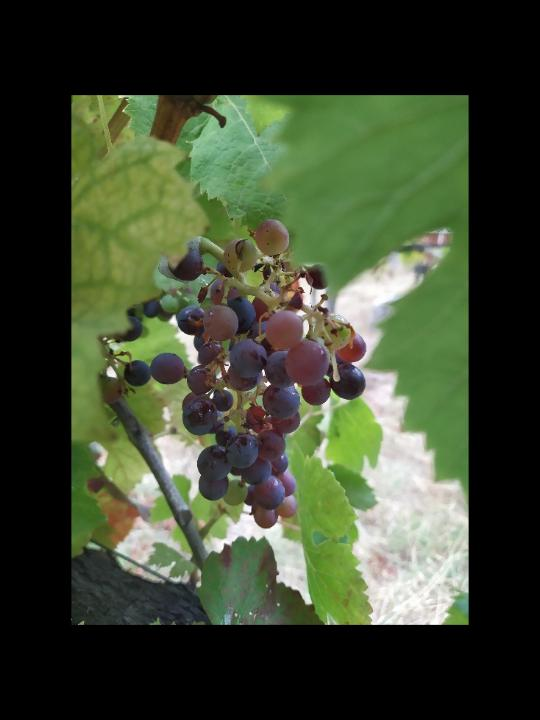grape: (122, 215, 371, 533)
